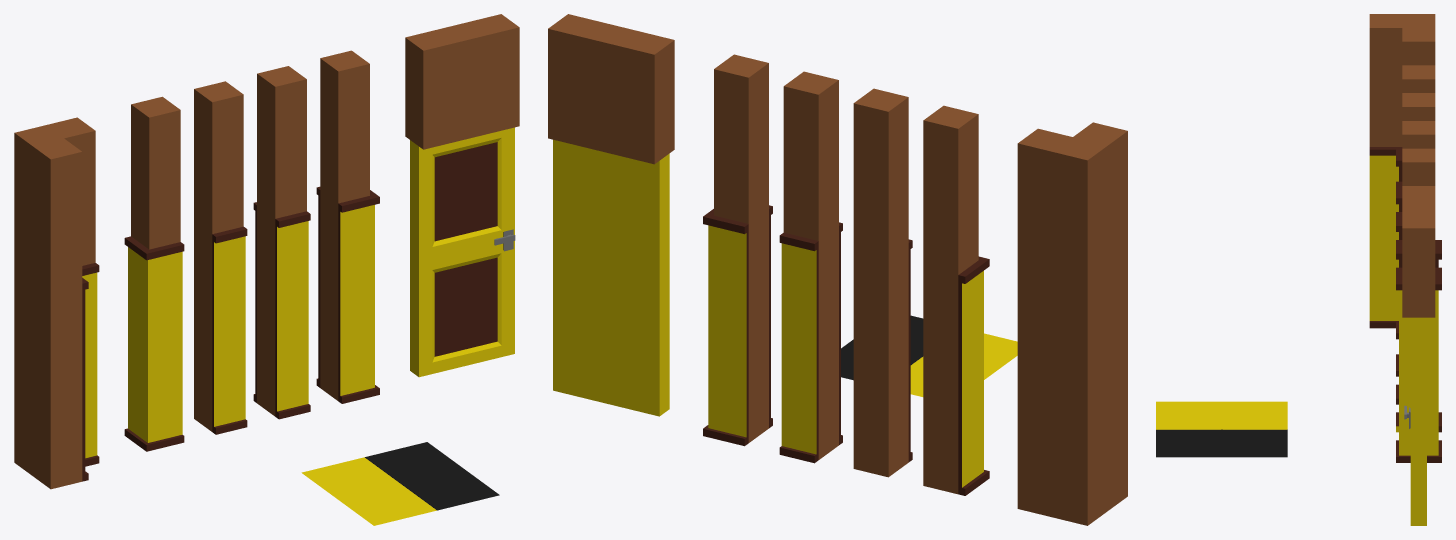
File: cenarioEscritorioLuxo.fbx
3 views of the same model, side by side, from view 1: azimuth 30°, elevation 25°; view 2: azimuth 150°, elevation 25°; view 3: azimuth 270°, elevation 25° (orthographic). The views are drawn at different scales.
Parts seen in each view (by area): view 1: ParedeLuxo_junta, PortaLuxo, ParedeLuxo_borda, ParedeLuxo_quina, ParedeLuxo_bilateral, ParedeLuxo_unilateral, ParedeEscritorio_cima_porta, ChaoLuxo; view 2: ParedeLuxo_junta, PortaLuxo, ParedeLuxo_borda, ParedeLuxo_quina, ParedeLuxo_bilateral, ParedeLuxo_unilateral, ParedeEscritorio_cima_porta, ChaoLuxo; view 3: ParedeLuxo_junta, ChaoLuxo, ParedeLuxo_borda, ParedeEscritorio_cima_porta, PortaLuxo, ParedeLuxo_bilateral, ParedeLuxo_quina, ParedeLuxo_unilateral.
Boxes of the visible parts, x1,y1,x2,y2 form: ParedeLuxo_junta: [14, 117, 99, 489]; PortaLuxo: [410, 127, 515, 377]; ParedeLuxo_borda: [316, 50, 379, 403]; ParedeLuxo_quina: [124, 96, 184, 451]; ParedeLuxo_bilateral: [253, 66, 310, 419]; ParedeLuxo_unilateral: [194, 81, 247, 434]; ParedeEscritorio_cima_porta: [405, 14, 519, 149]; ChaoLuxo: [301, 442, 499, 525]; ParedeLuxo_junta: [1017, 122, 1127, 525]; PortaLuxo: [553, 139, 669, 416]; ParedeLuxo_borda: [703, 54, 772, 446]; ParedeLuxo_quina: [923, 105, 989, 495]; ParedeLuxo_bilateral: [779, 71, 842, 463]; ParedeLuxo_unilateral: [853, 88, 912, 477]; ParedeEscritorio_cima_porta: [548, 14, 674, 164]; ChaoLuxo: [841, 315, 1017, 396]; ParedeLuxo_junta: [1369, 14, 1435, 339]; ChaoLuxo: [1156, 401, 1287, 457]; ParedeLuxo_borda: [1396, 148, 1441, 462]; ParedeEscritorio_cima_porta: [1402, 186, 1435, 317]; PortaLuxo: [1404, 317, 1426, 525]; ParedeLuxo_bilateral: [1396, 121, 1441, 432]; ParedeLuxo_quina: [1396, 65, 1435, 376]; ParedeLuxo_unilateral: [1396, 93, 1435, 404].
Size of the model in its own units: 1545 by 1000 by 870.
